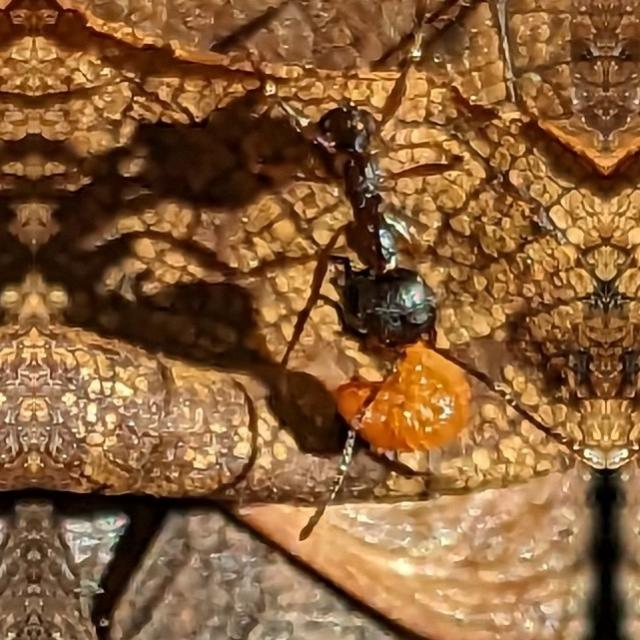Apheanogaster: (278, 59, 470, 363)
